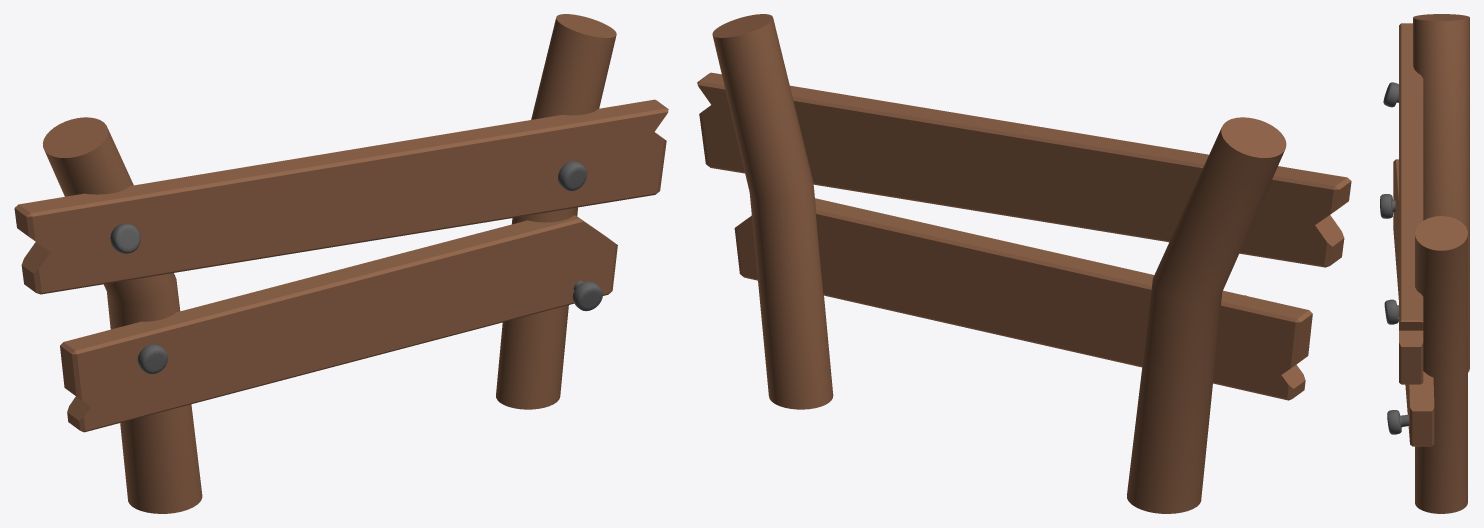
File: Fence.fbx
3 views of the same model, side by side, from view 1: azimuth 30°, elevation 25°; view 2: azimuth 150°, elevation 25°; view 3: azimuth 270°, elevation 25° (orthographic). The views are drawn at different scales.
Visible parts, largest first — view 1: Cube.154, Cube.002, Cylinder, Cube.001, Cube.005, Cube.003; view 2: Cylinder, Cube.154, Cube.002; view 3: Cylinder, Cube.154, Cube.002, Cube.005, Cube.003, Cube.004, Cube.001.
Boxes of the visible parts, x1,y1,x2,y2 form: Cube.154: [14, 99, 668, 294]; Cube.002: [60, 215, 617, 432]; Cylinder: [43, 14, 616, 513]; Cube.001: [110, 223, 140, 253]; Cube.005: [572, 281, 602, 311]; Cube.003: [137, 344, 167, 374]; Cylinder: [712, 14, 1286, 513]; Cube.154: [697, 72, 1351, 267]; Cube.002: [734, 198, 1312, 400]; Cylinder: [1413, 14, 1469, 513]; Cube.154: [1399, 23, 1423, 384]; Cube.002: [1393, 159, 1434, 446]; Cube.005: [1387, 410, 1409, 434]; Cube.003: [1380, 194, 1395, 218]; Cube.004: [1384, 299, 1398, 324]; Cube.001: [1383, 82, 1398, 107].
Size of the model in its own units: 276 by 161 by 40.65.
